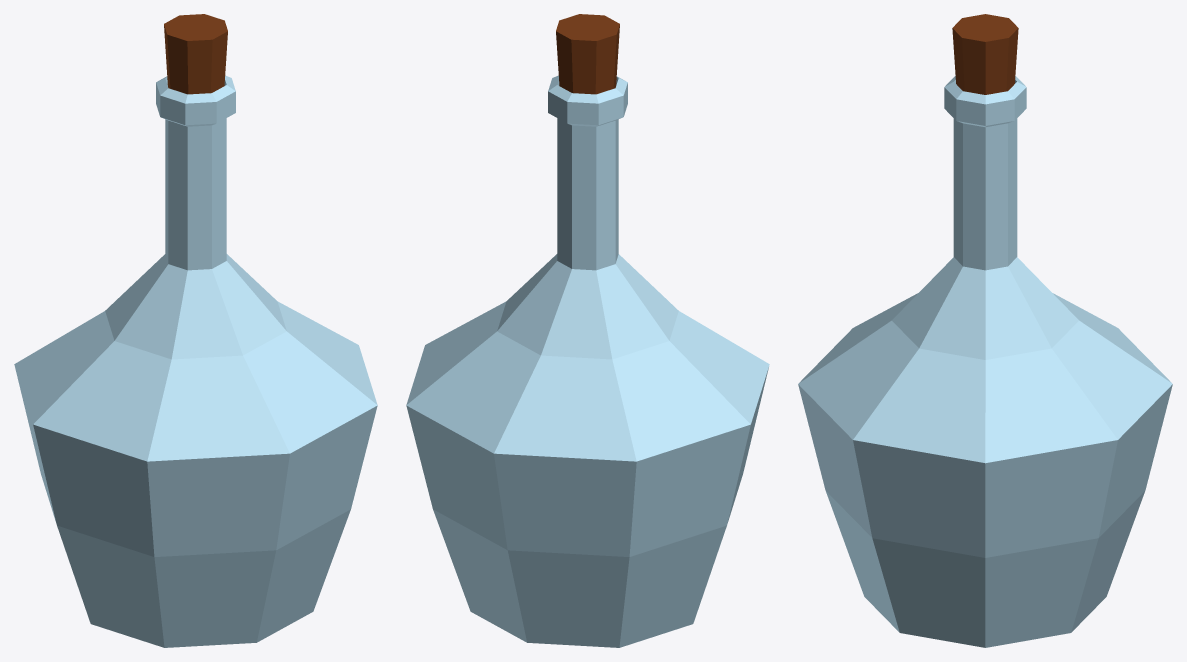
The model's file is PorcaoF.fbx.
3 renders of one model, left to right at view 1: azimuth 30°, elevation 25°; view 2: azimuth 150°, elevation 25°; view 3: azimuth 270°, elevation 25°, orthographic.
Visible parts, largest first — view 1: Cylinder; view 2: Cylinder; view 3: Cylinder.
Boxes of the visible parts, x1=… form: Cylinder: x1=14, y1=14, x2=377, y2=647; Cylinder: x1=406, y1=14, x2=769, y2=647; Cylinder: x1=798, y1=14, x2=1172, y2=647.
Size of the model in its own units: 72.09 by 121 by 72.09.
